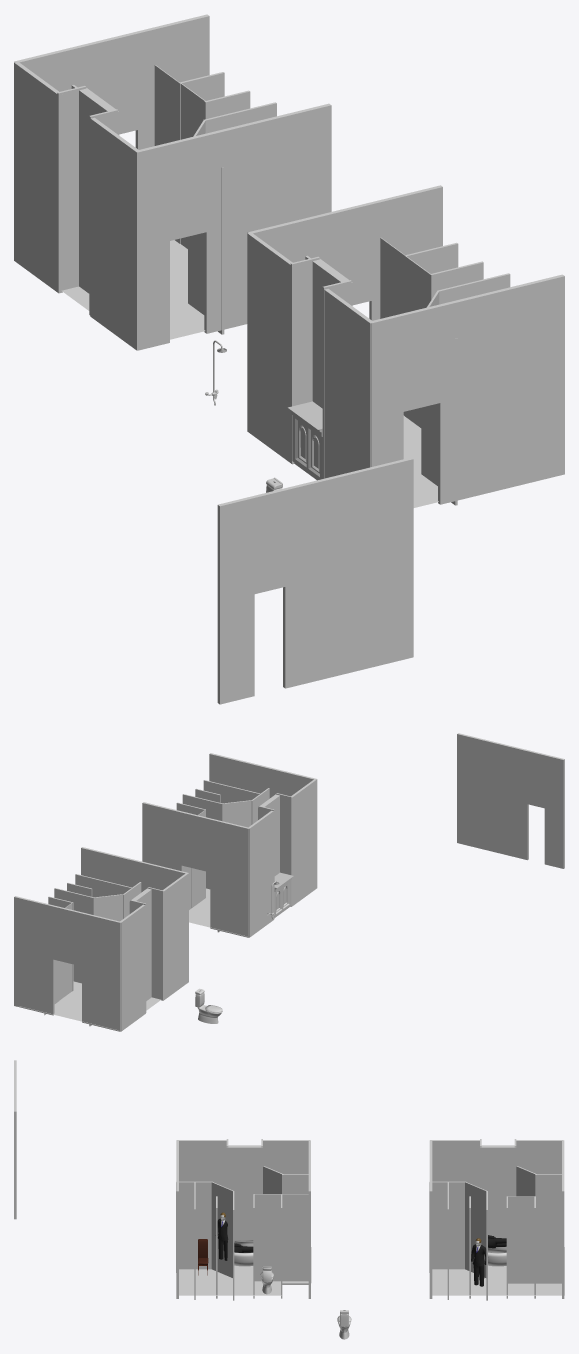
Rendered from bathroom.fbx.
3 renders of one model, top to bottom at view 1: azimuth 30°, elevation 25°; view 2: azimuth 150°, elevation 25°; view 3: azimuth 270°, elevation 25°, orthographic. The views are drawn at different scales.
Visible parts, largest first — view 1: Cube.020, Cube.699, Cube.005, Cube.716, Cube.732, Cube.929, Plane.000, wardrobe, Cube.723, Cube.019, Cube.731, Cube.014 (+11 smaller); view 2: Cube.020, Cube.699, Cube.732, Cube.716, Cube.005, Cube.928, Plane.000, Cube.018, Cube.012, Cube.004, Cube.021, Cube.733 (+6 smaller); view 3: Cube.020, Cube.716, Cube.019, Cube.731, Cube.723, Plane.000, Cube.726, Cube.016, Plane.104, Cube.014, Cube.728, Cube.733 (+12 smaller).
Boxes of the visible parts, bbox=[...] form: Cube.020: bbox=[14, 14, 331, 350]; Cube.699: bbox=[217, 457, 413, 704]; Cube.005: bbox=[370, 274, 564, 504]; Cube.716: bbox=[247, 233, 373, 478]; Cube.732: bbox=[247, 185, 442, 320]; Cube.929: bbox=[290, 256, 319, 462]; Plane.000: bbox=[61, 240, 205, 339]; wardrobe: bbox=[288, 401, 322, 480]; Cube.723: bbox=[312, 258, 352, 408]; Cube.019: bbox=[188, 167, 224, 334]; Cube.731: bbox=[421, 338, 457, 505]; Cube.014: bbox=[154, 65, 179, 242]; Cube.020: bbox=[14, 847, 188, 1031]; Cube.699: bbox=[457, 733, 564, 868]; Cube.732: bbox=[142, 802, 248, 937]; Cube.716: bbox=[248, 779, 317, 937]; Cube.005: bbox=[209, 753, 316, 798]; Cube.928: bbox=[276, 793, 291, 906]; Plane.000: bbox=[19, 981, 160, 1030]; Cube.018: bbox=[54, 888, 94, 983]; Cube.012: bbox=[203, 780, 260, 803]; Cube.004: bbox=[75, 874, 132, 897]; Cube.021: bbox=[94, 894, 123, 921]; Cube.733: bbox=[222, 800, 251, 827]; Cube.020: bbox=[429, 1139, 564, 1298]; Cube.716: bbox=[177, 1140, 309, 1187]; Cube.019: bbox=[429, 1181, 465, 1272]; Cube.731: bbox=[176, 1181, 212, 1272]; Cube.723: bbox=[226, 1145, 262, 1239]; Plane.000: bbox=[432, 1247, 564, 1295]; Cube.726: bbox=[282, 1194, 308, 1284]; Cube.016: bbox=[507, 1196, 534, 1283]; Plane.104: bbox=[179, 1247, 311, 1295]; Cube.014: bbox=[536, 1196, 561, 1283]; Cube.728: bbox=[254, 1194, 281, 1281]; Cube.733: bbox=[211, 1182, 233, 1277].
Size of the model in its own units: 731 by 479 by 1300.
